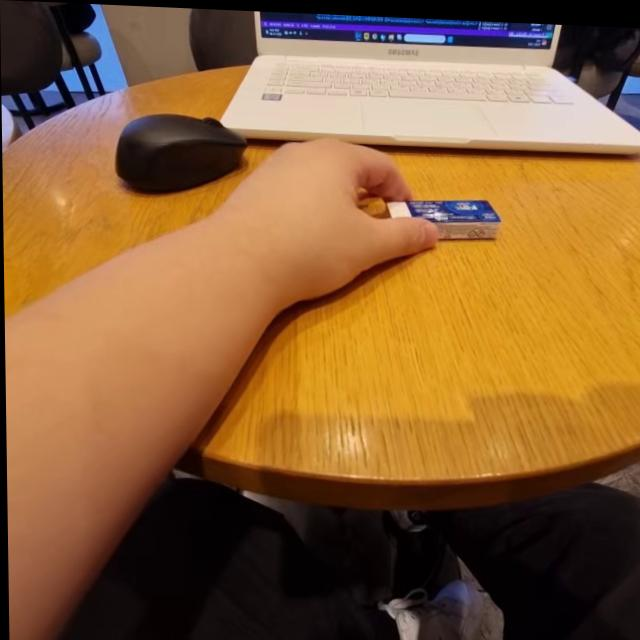grab_eraser: (220, 132, 510, 328)
mouse: (103, 107, 255, 190)
